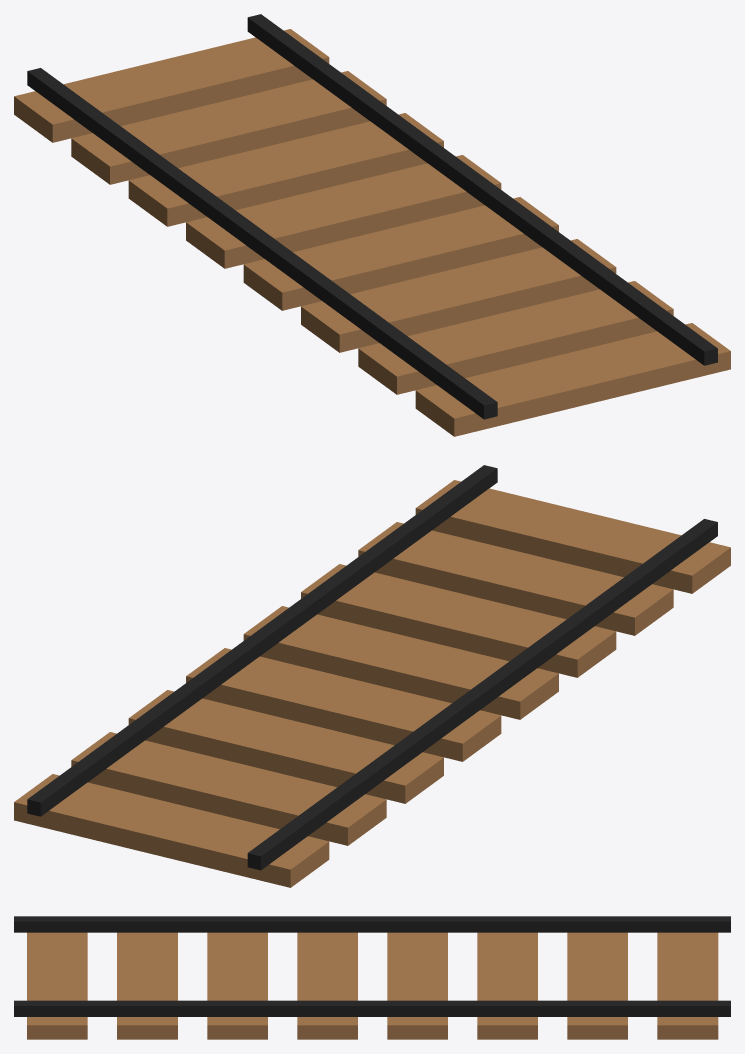
The model's file is mesh_TrainTracksStraight.fbx.
3 views of the same model, one above another, from view 1: azimuth 30°, elevation 25°; view 2: azimuth 150°, elevation 25°; view 3: azimuth 270°, elevation 25° (orthographic). The views are drawn at different scales.
Visible parts, largest first — view 1: TracksStraight; view 2: TracksStraight; view 3: TracksStraight.
Boxes of the visible parts, box(x1,y1,x2,y2) form: TracksStraight: box(14, 14, 730, 436); TracksStraight: box(14, 465, 730, 887); TracksStraight: box(14, 916, 730, 1039).
Bounding box in the file's own units: 233 × 25.93 × 665.
